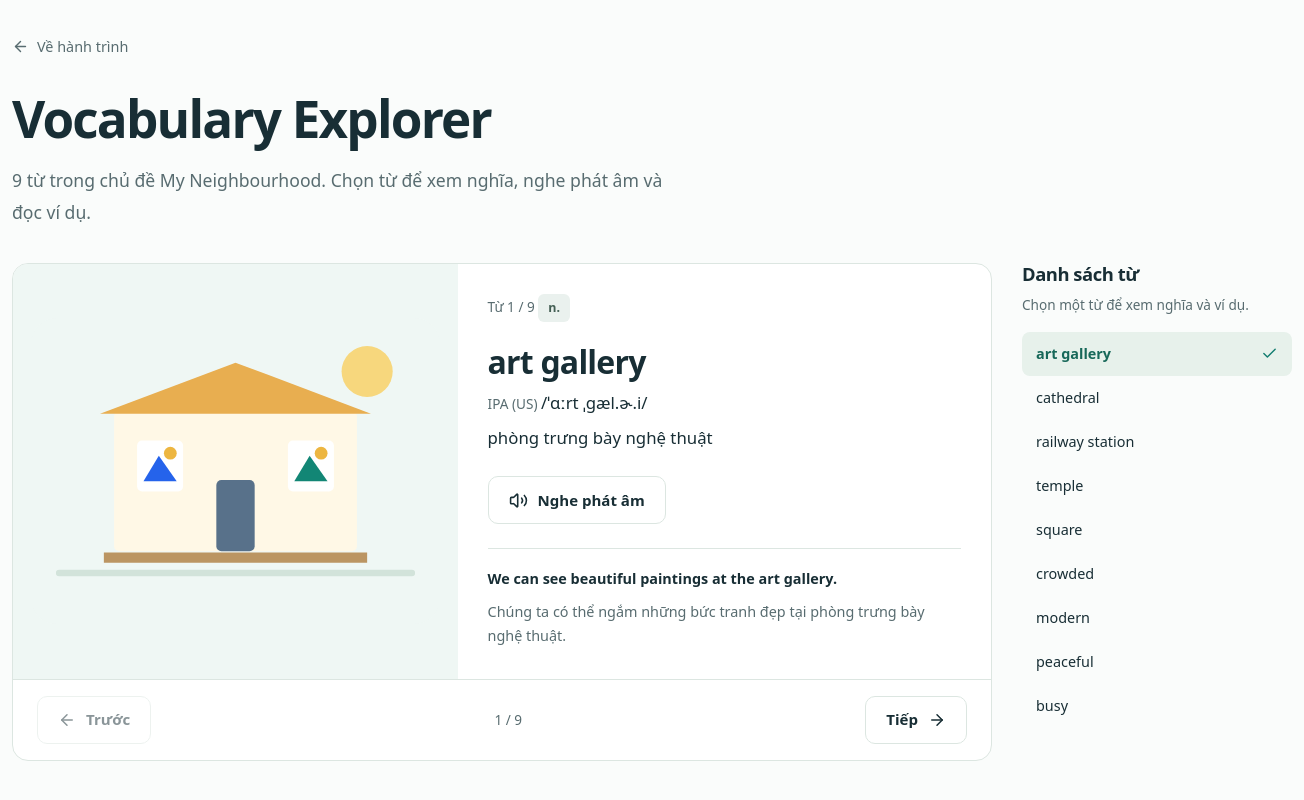
routes and user interactions › has functional flashcards and marks viewed vocabulary
The image size is (1304, 800).
Expected: the heading "art gallery" is shown, [488, 340, 646, 384]
Expected: the text "/ˈɑːrt ˌɡæl.ɚ.i/" is shown, [541, 392, 648, 414]
Click the button "Tiếp" at (916, 720), box [865, 696, 967, 744]
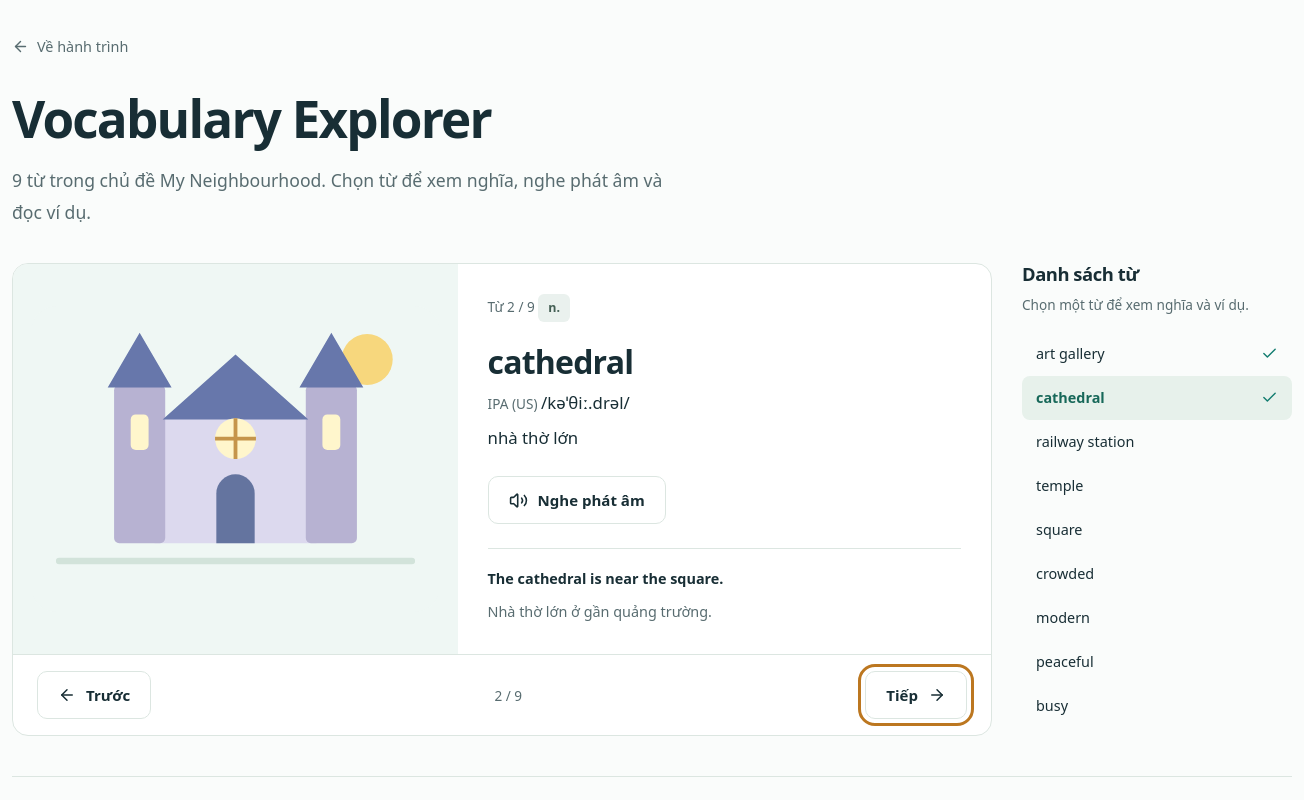
Now the text "/kəˈθiː.drəl/" is shown, box [541, 392, 630, 414]
Now the heading "cathedral" is shown, box [488, 340, 633, 384]
